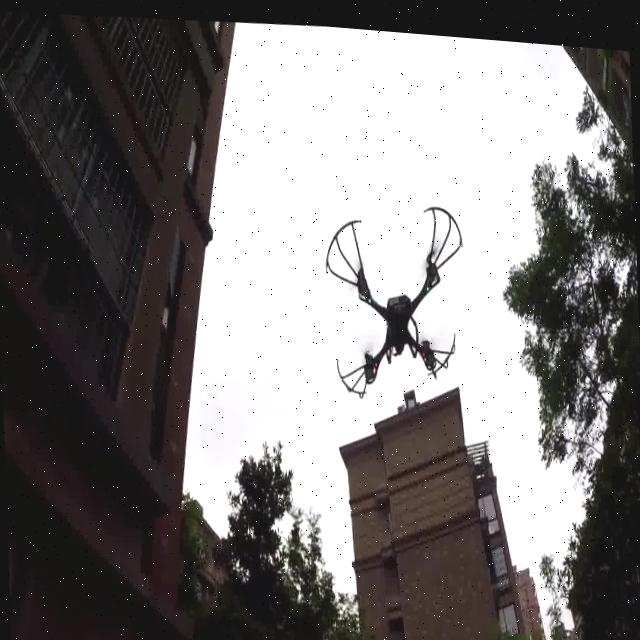drone: (320, 182, 470, 422)
